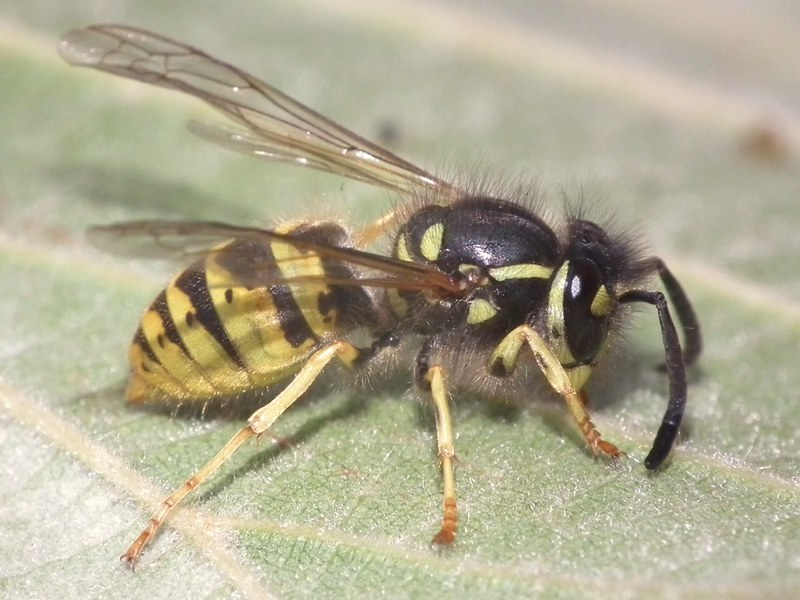chax: (47, 8, 741, 589)
